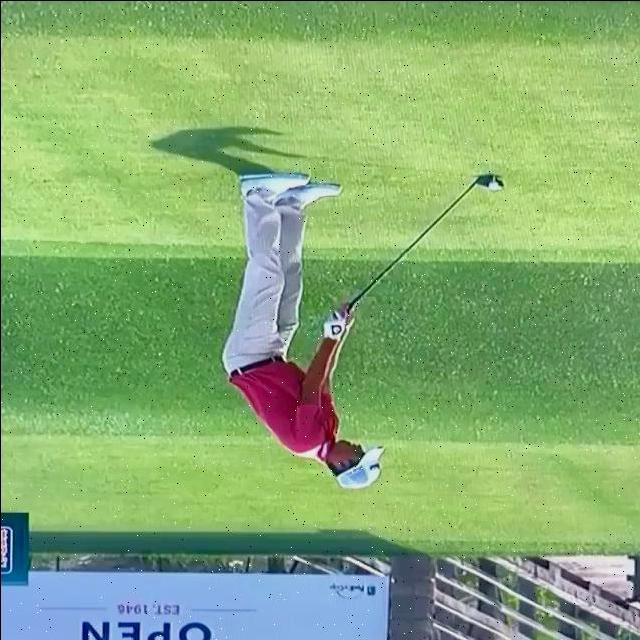golf ball: (488, 180, 499, 189)
golf club-handle: (346, 174, 503, 309)
golf club-head: (476, 173, 503, 188)
